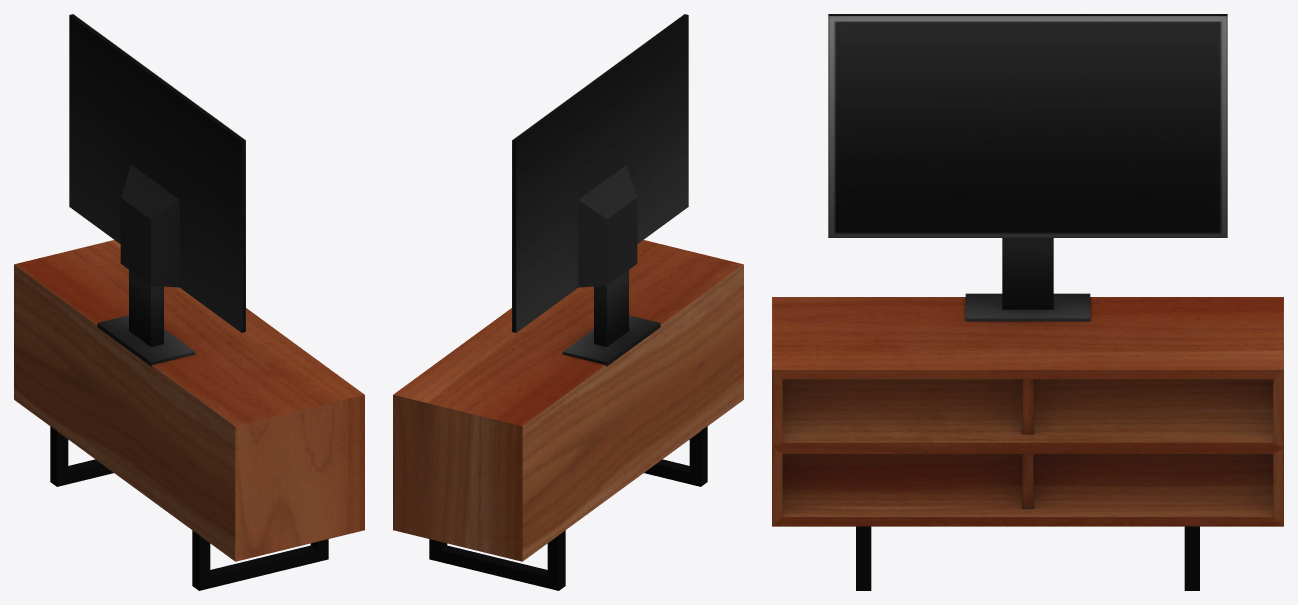
Rendered from tv_stand02.glb.
The picture shows the model from 3 angles, left to right: view 1: azimuth 30°, elevation 25°; view 2: azimuth 150°, elevation 25°; view 3: azimuth 270°, elevation 25°; orthographic projection. The views are drawn at different scales.
Visible parts, largest first — view 1: tv_stand02; view 2: tv_stand02; view 3: tv_stand02.
Part boxes in pixels (x1=…): tv_stand02: x1=14, y1=14, x2=364, y2=590; tv_stand02: x1=393, y1=14, x2=743, y2=590; tv_stand02: x1=772, y1=14, x2=1283, y2=590.
Size of the model in its own units: 0.3246 by 1.08 by 0.9592.
1 material, 1 textured.
